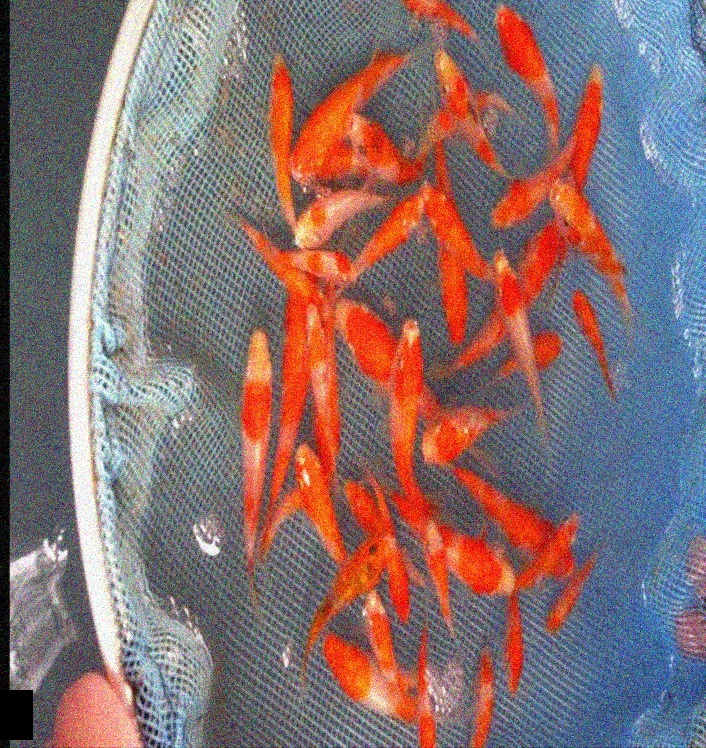fry: (284, 62, 381, 189), (422, 154, 481, 350), (326, 631, 428, 742), (229, 318, 276, 553), (492, 6, 570, 124), (333, 292, 409, 409), (345, 87, 427, 194), (240, 231, 335, 321), (341, 466, 409, 584), (384, 313, 435, 469), (551, 174, 628, 277), (465, 483, 565, 562), (421, 398, 520, 472), (278, 179, 382, 249), (420, 175, 488, 280), (272, 296, 309, 487), (491, 241, 538, 390), (314, 538, 393, 626), (306, 315, 351, 469), (293, 443, 347, 569), (442, 528, 525, 606), (350, 192, 422, 276), (256, 45, 299, 185), (412, 496, 460, 620), (485, 158, 554, 238), (352, 592, 415, 677), (516, 214, 571, 301), (572, 54, 609, 179), (429, 43, 479, 134), (500, 595, 543, 699), (466, 636, 505, 747), (499, 323, 567, 385), (568, 285, 611, 374), (285, 235, 363, 284), (397, 0, 481, 42), (541, 497, 584, 576), (551, 572, 588, 639)
